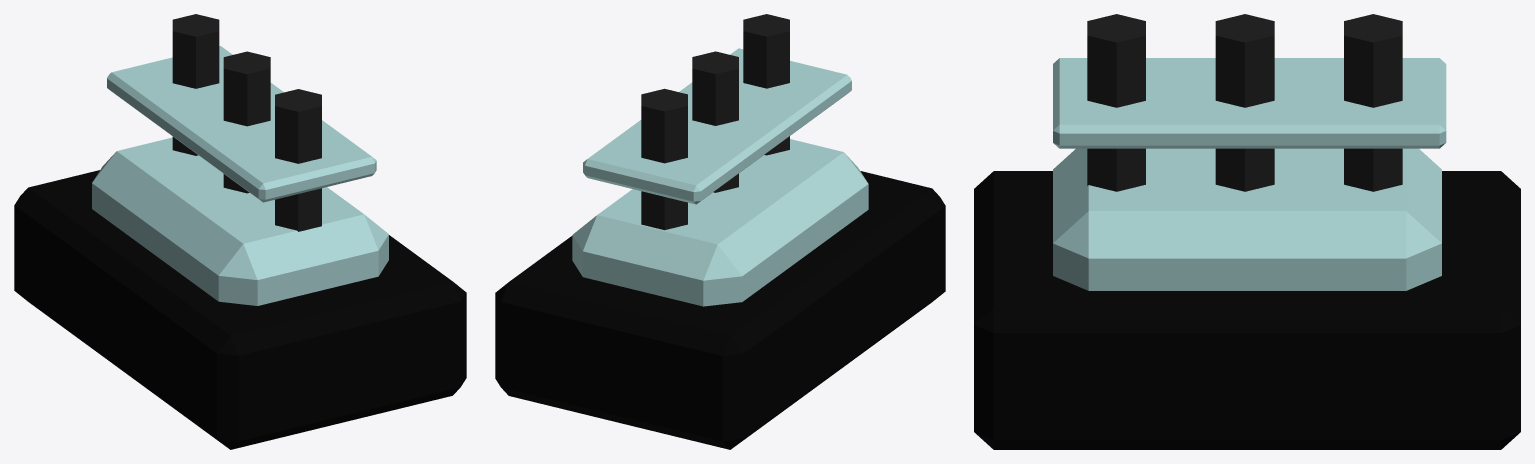
The model's file is SmallGenerator.fbx.
3 views of the same model, side by side, from view 1: azimuth 30°, elevation 25°; view 2: azimuth 150°, elevation 25°; view 3: azimuth 270°, elevation 25° (orthographic). The views are drawn at different scales.
Visible parts, largest first — view 1: SmallGen; view 2: SmallGen; view 3: SmallGen.
Boxes of the visible parts, x1,y1,x2,y2 form: SmallGen: [14, 14, 466, 449]; SmallGen: [495, 14, 945, 449]; SmallGen: [974, 14, 1520, 449].
Size of the model in its own units: 818 by 893 by 1239.
